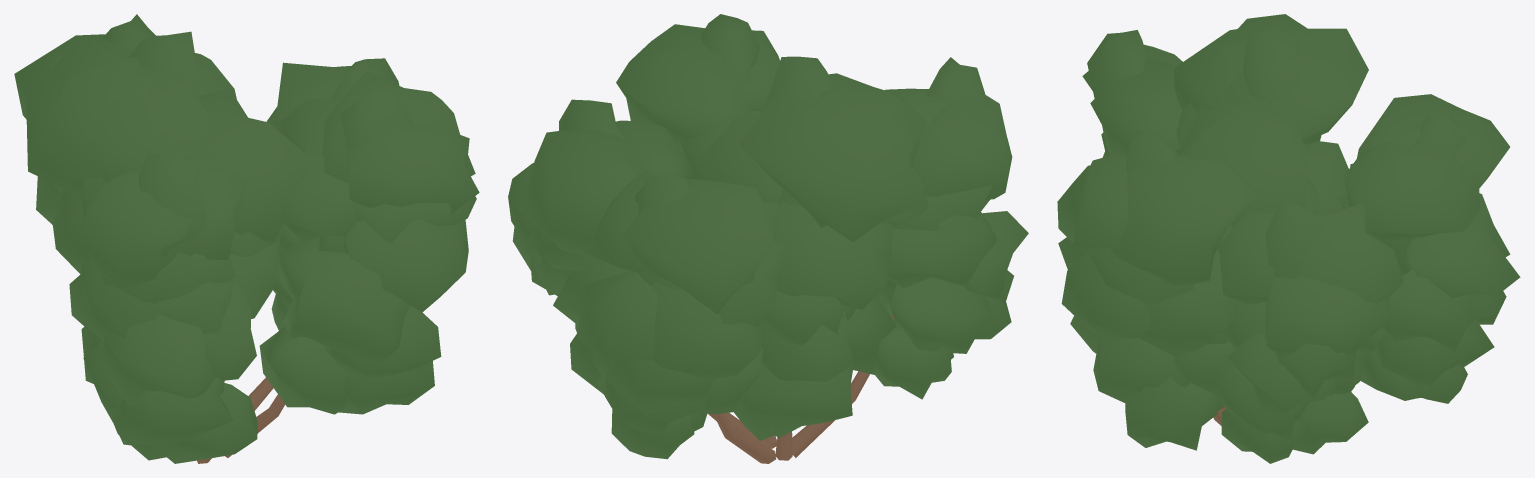
File: Blender_AsheJuniper_2.glb
3 views of the same model, side by side, from view 1: azimuth 30°, elevation 25°; view 2: azimuth 150°, elevation 25°; view 3: azimuth 270°, elevation 25° (orthographic). The views are drawn at different scales.
Parts seen in each view (by area): view 1: Blender_AsheJuniper_2; view 2: Blender_AsheJuniper_2; view 3: Blender_AsheJuniper_2.
Boxes of the visible parts, bbox=[...] form: Blender_AsheJuniper_2: bbox=[14, 14, 479, 463]; Blender_AsheJuniper_2: bbox=[508, 14, 1028, 463]; Blender_AsheJuniper_2: bbox=[1057, 14, 1520, 463].
Size of the model in its own units: 7.42 by 7.01 by 7.38.
